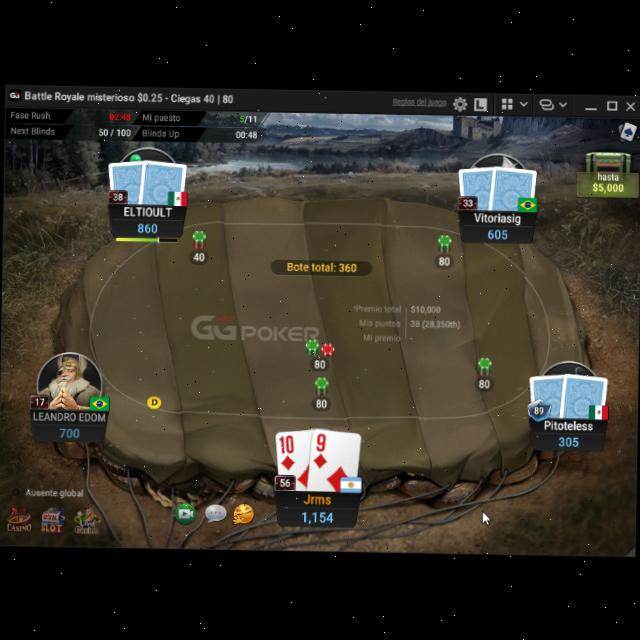9d: (312, 429, 329, 468)
Td: (278, 431, 298, 468)
bet_text: (437, 252, 451, 264), (314, 394, 328, 406), (478, 376, 492, 388), (192, 248, 206, 260), (312, 355, 326, 367)
card_back: (558, 367, 610, 418), (137, 153, 188, 204), (487, 160, 538, 211), (456, 160, 500, 208), (106, 154, 150, 202), (527, 368, 569, 416)
dealer: (144, 390, 162, 406)
pot_text: (284, 257, 358, 271)
stack_text: (300, 504, 334, 522), (485, 222, 508, 238), (136, 217, 159, 231), (58, 422, 80, 436), (557, 430, 579, 444)
